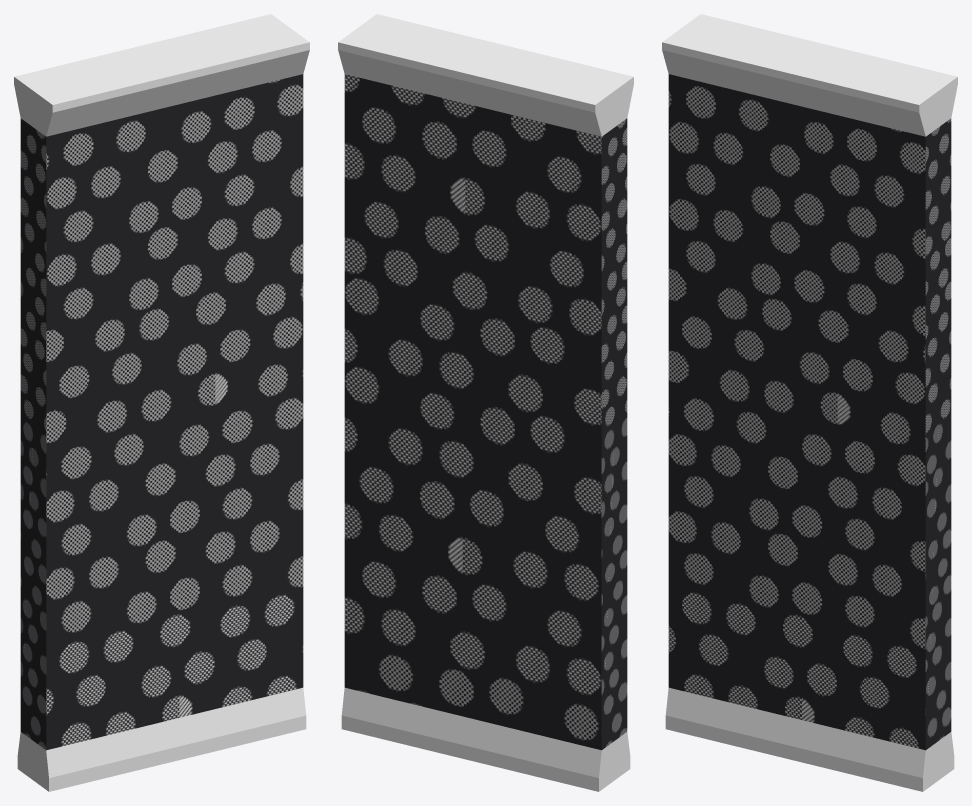
File: kwallTB.fbx
3 renders of one model, left to right at view 1: azimuth 30°, elevation 25°; view 2: azimuth 150°, elevation 25°; view 3: azimuth 330°, elevation 25°, orthographic.
Parts seen in each view (by area): view 1: pCube3; view 2: pCube3; view 3: pCube3.
Part boxes in pixels (left/top/right/bottom): pCube3: left=14, top=14, right=309, bottom=791; pCube3: left=338, top=14, right=633, bottom=791; pCube3: left=662, top=14, right=957, bottom=791.
Size of the model in its own units: 2.86 by 7.32 by 0.7448.
Materials: 1 (1 with a texture image).
